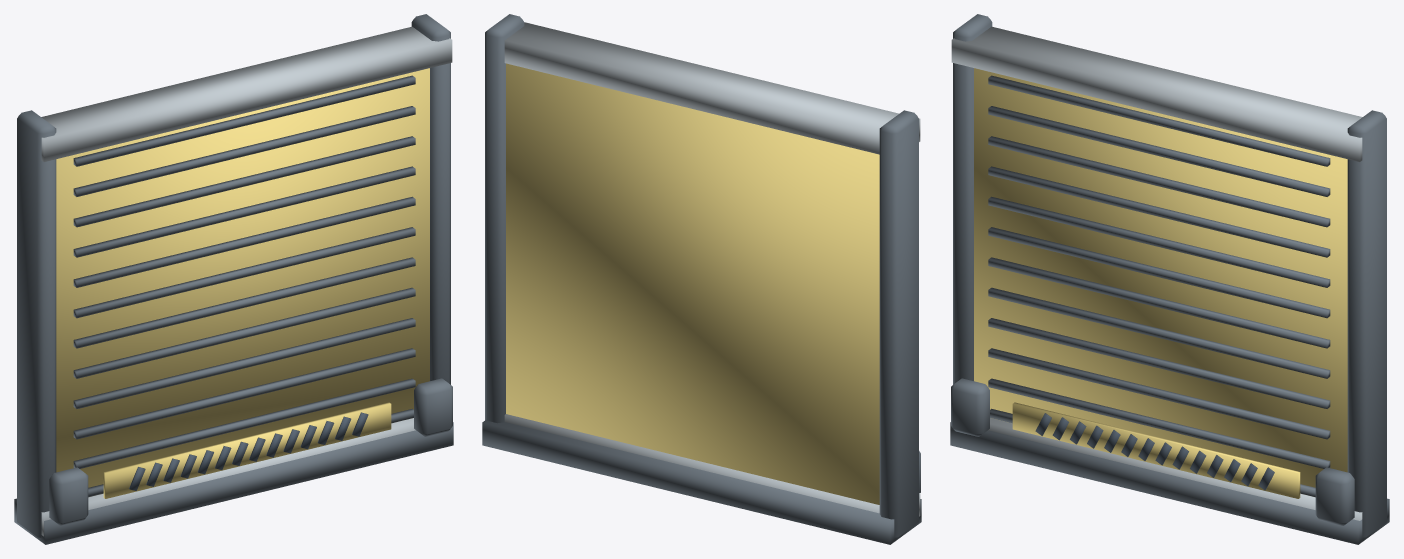
The model's file is industrial_door_ultra.glb.
The picture shows the model from 3 angles, left to right: view 1: azimuth 30°, elevation 25°; view 2: azimuth 150°, elevation 25°; view 3: azimuth 330°, elevation 25°; orthographic projection.
Parts seen in each view (by area): view 1: Wall_yellow, DoorSlats_dark, Frame_dark, Frame_steel, Base_dark, Detail_yellow, Footing_dark, Detail_black; view 2: Wall_yellow, Frame_dark, Frame_steel, Base_dark; view 3: Wall_yellow, DoorSlats_dark, Frame_dark, Frame_steel, Base_dark, Detail_yellow, Footing_dark, Detail_black.
Boxes of the visible parts, x1,y1,x2,y2 form: Wall_yellow: (56, 68, 429, 487); DoorSlats_dark: (73, 75, 415, 497); Frame_dark: (17, 14, 450, 538); Frame_steel: (41, 26, 452, 536); Base_dark: (14, 422, 453, 544); Detail_yellow: (103, 402, 391, 498); Footing_dark: (49, 378, 452, 525); Detail_black: (129, 412, 368, 490); Wall_yellow: (506, 63, 879, 504); Frame_dark: (485, 14, 918, 538); Frame_steel: (504, 22, 920, 516); Base_dark: (482, 420, 921, 544); Wall_yellow: (974, 68, 1347, 487); DoorSlats_dark: (988, 75, 1330, 497); Frame_dark: (953, 14, 1386, 538); Frame_steel: (951, 26, 1362, 520); Base_dark: (950, 422, 1389, 544); Detail_yellow: (1012, 402, 1300, 498); Footing_dark: (951, 378, 1354, 525); Detail_black: (1035, 413, 1274, 490).
Size of the model in its own units: 3.04 by 2.9 by 0.495.
